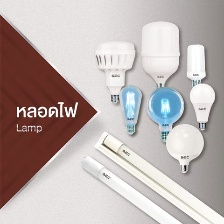light_bulb: (91, 129, 224, 224), (77, 154, 199, 224), (137, 19, 182, 93), (92, 39, 137, 105), (162, 120, 206, 177), (145, 84, 186, 143), (116, 82, 144, 137), (187, 81, 217, 131), (183, 41, 208, 93)
